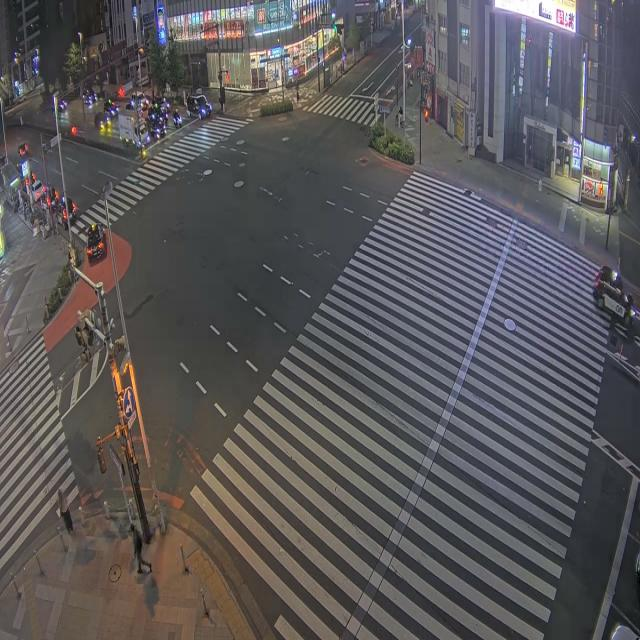car: (593, 265, 635, 328), (86, 224, 105, 261), (187, 96, 212, 119), (55, 203, 76, 229), (146, 118, 166, 139), (148, 104, 167, 126), (611, 625, 639, 639), (130, 92, 149, 109), (150, 96, 169, 112), (61, 195, 76, 215), (103, 99, 118, 118), (32, 181, 45, 201), (94, 113, 110, 129), (83, 88, 97, 105), (18, 143, 28, 157), (58, 99, 67, 111)
motorcycle: (173, 112, 182, 128)
truck: (118, 112, 149, 145)
